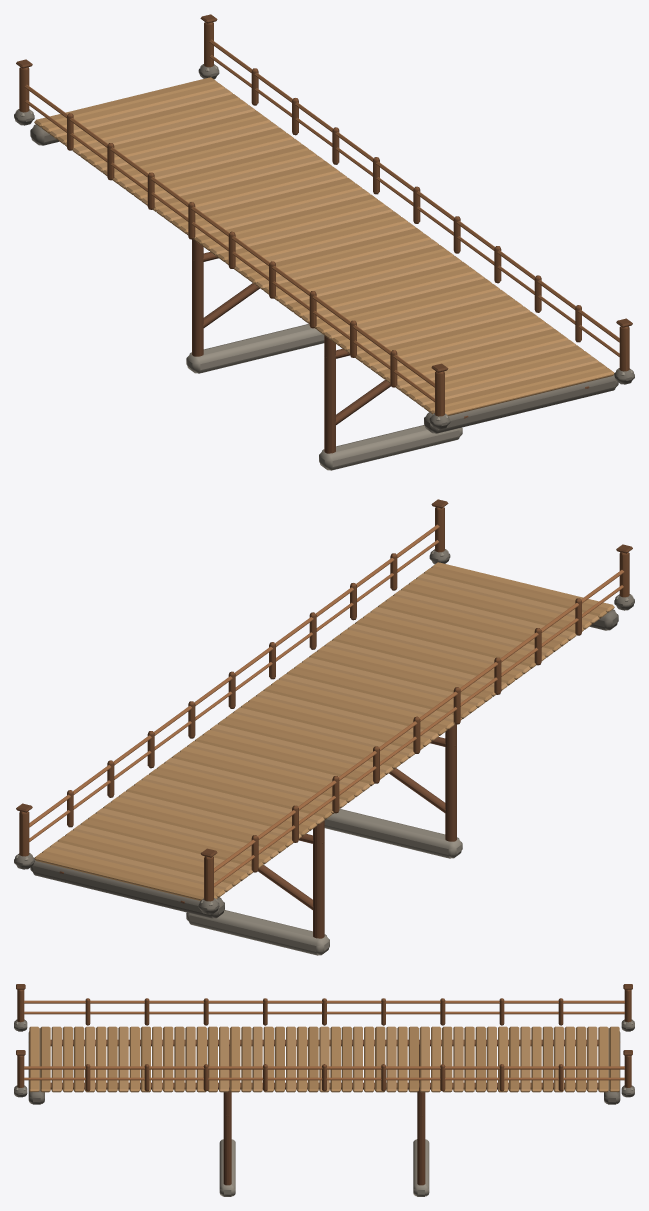
The model's file is bridge.glb.
The picture shows the model from 3 angles, top to bottom: view 1: azimuth 30°, elevation 25°; view 2: azimuth 150°, elevation 25°; view 3: azimuth 270°, elevation 25°; orthographic projection. The views are drawn at different scales.
Parts seen in each view (by area): view 1: body; view 2: body; view 3: body.
Boxes of the visible parts, <box> form: body: <box>14,14,634,470</box>; body: <box>14,499,634,955</box>; body: <box>14,984,634,1196</box>.
Bounding box in the file's own units: 6.3 × 6.38 × 23.1.
